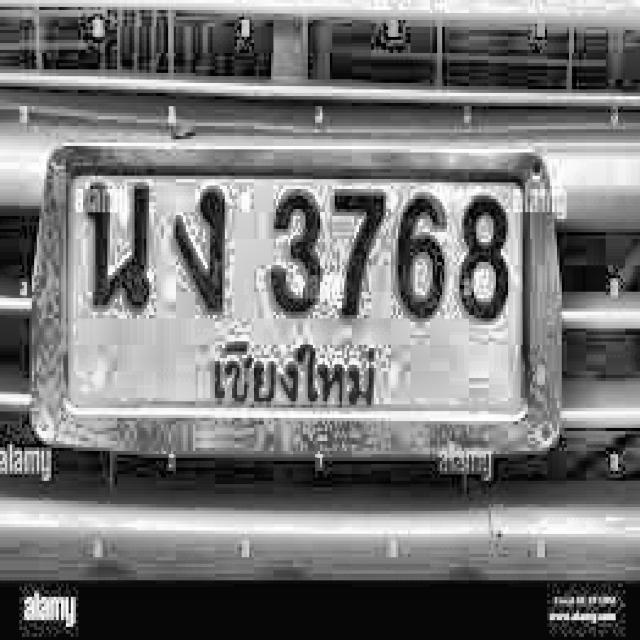license-plate: (30, 108, 612, 508)
